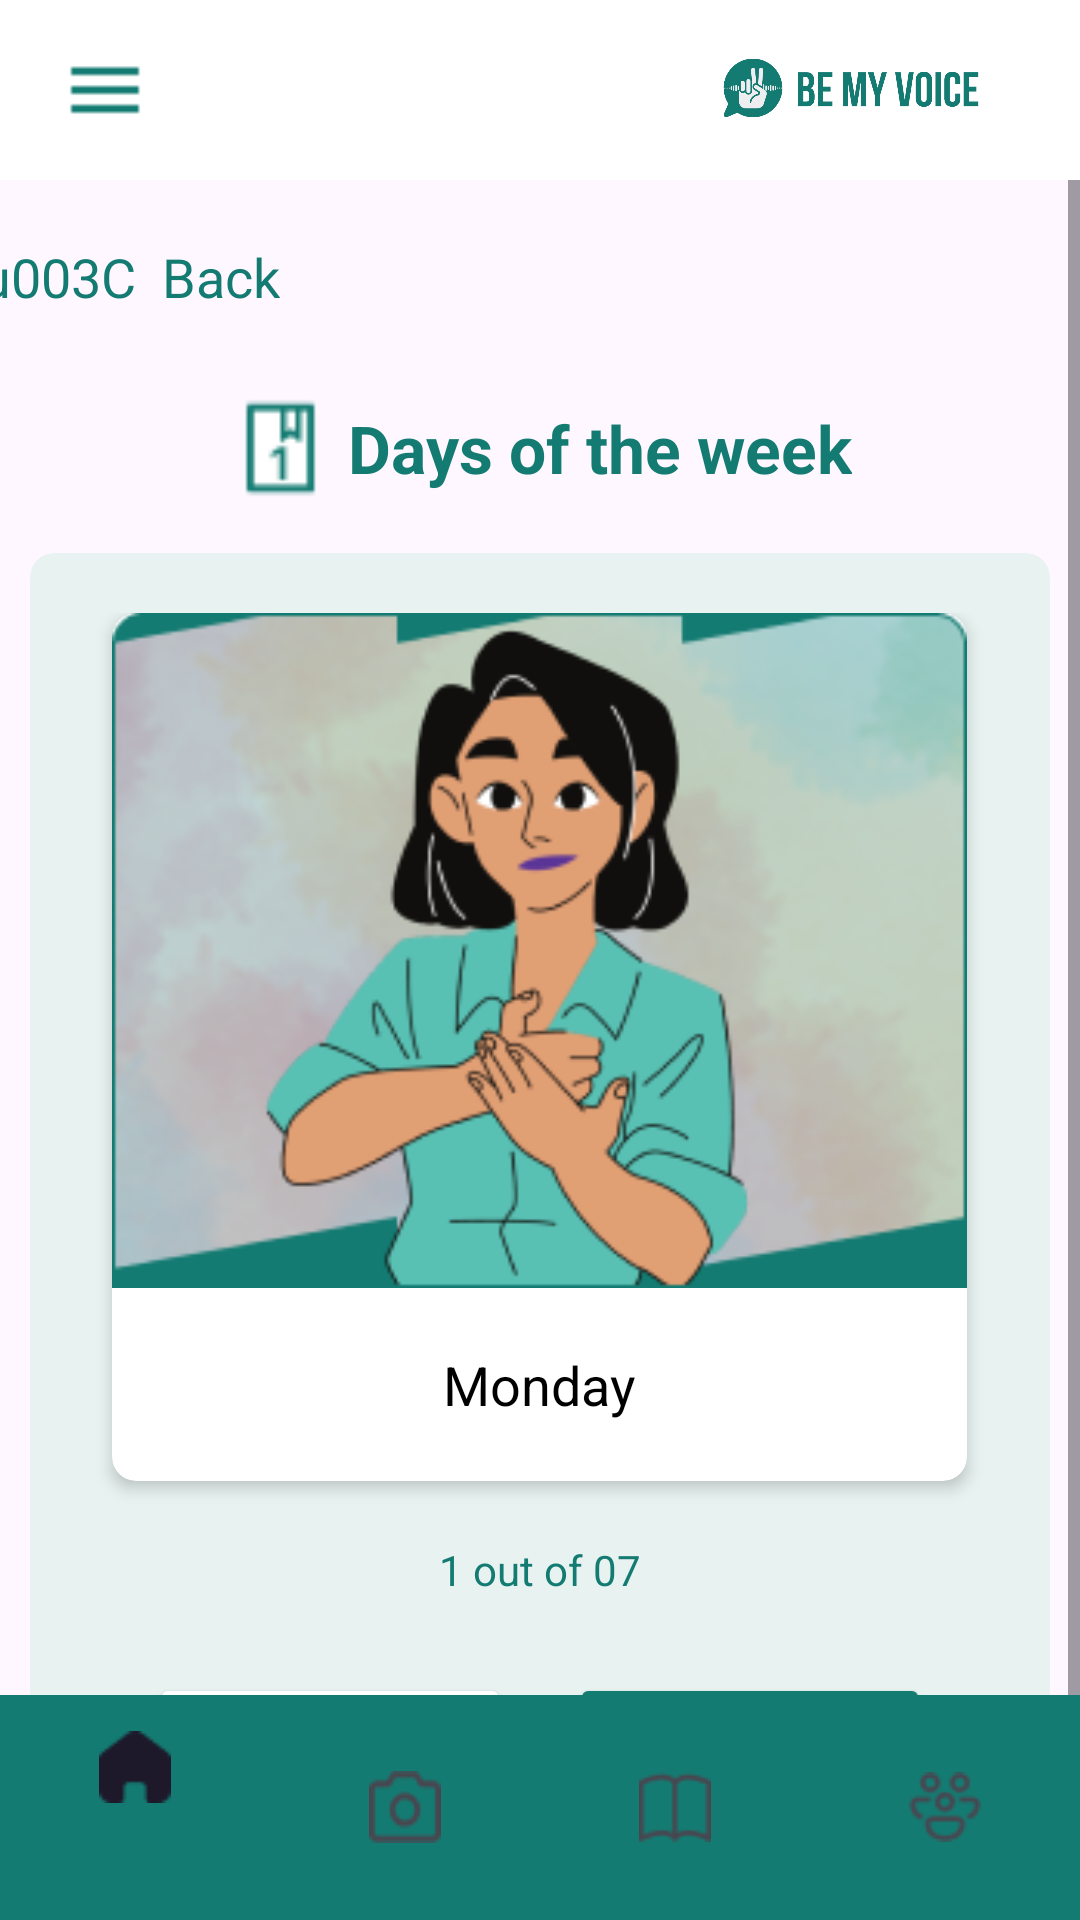

Where to tap for icons on this 1080 × 1920 app screen, as (x=x, y=y):
left drawer: (x=105, y=90)
